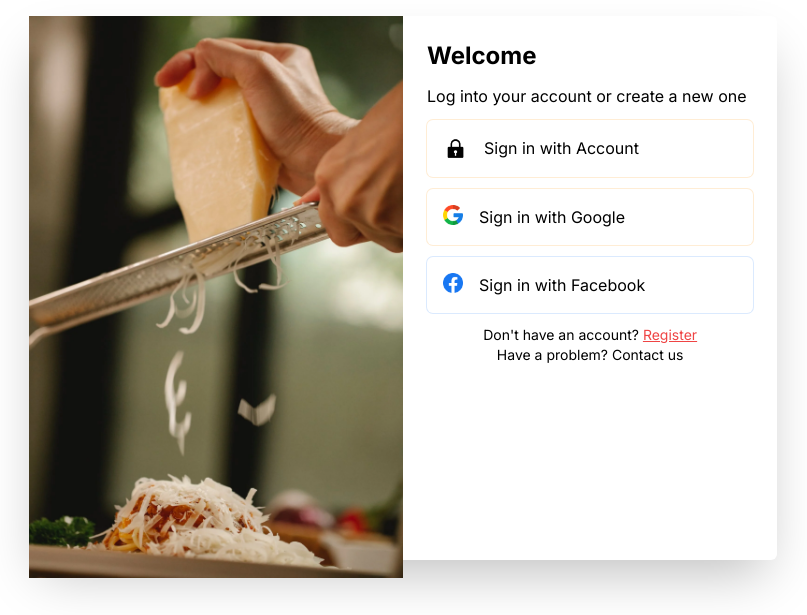
Test: LoginPage › should show LoginForm when clicking Sign in with Account
The image size is (807, 615).
Click the button "Sign in with Account" at coordinates (590, 148), box [427, 120, 753, 177]
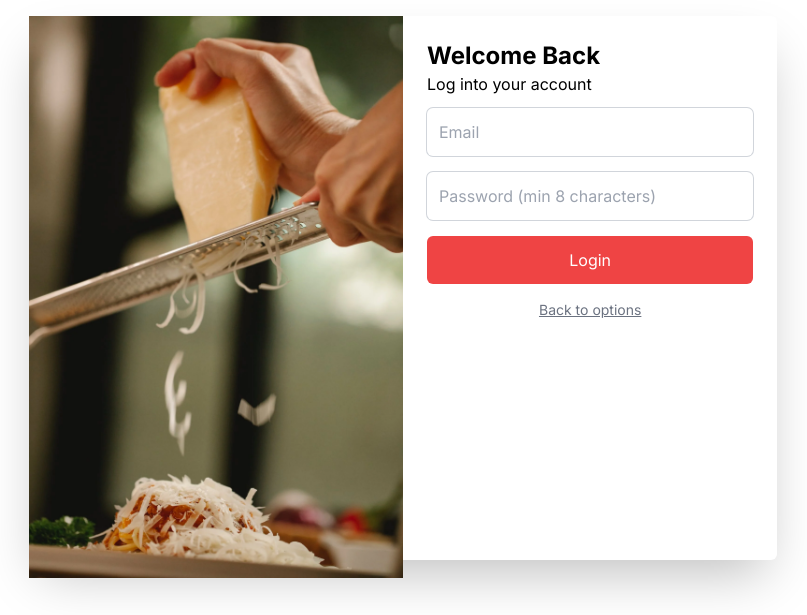
Check: the heading "Welcome Back" is shown, box [427, 41, 600, 70]
Check: the field with placeholder "Email" is shown, box [427, 108, 753, 156]
Check: the password field with placeholder "Password (min 8 characters)" is shown, box [427, 172, 753, 220]
